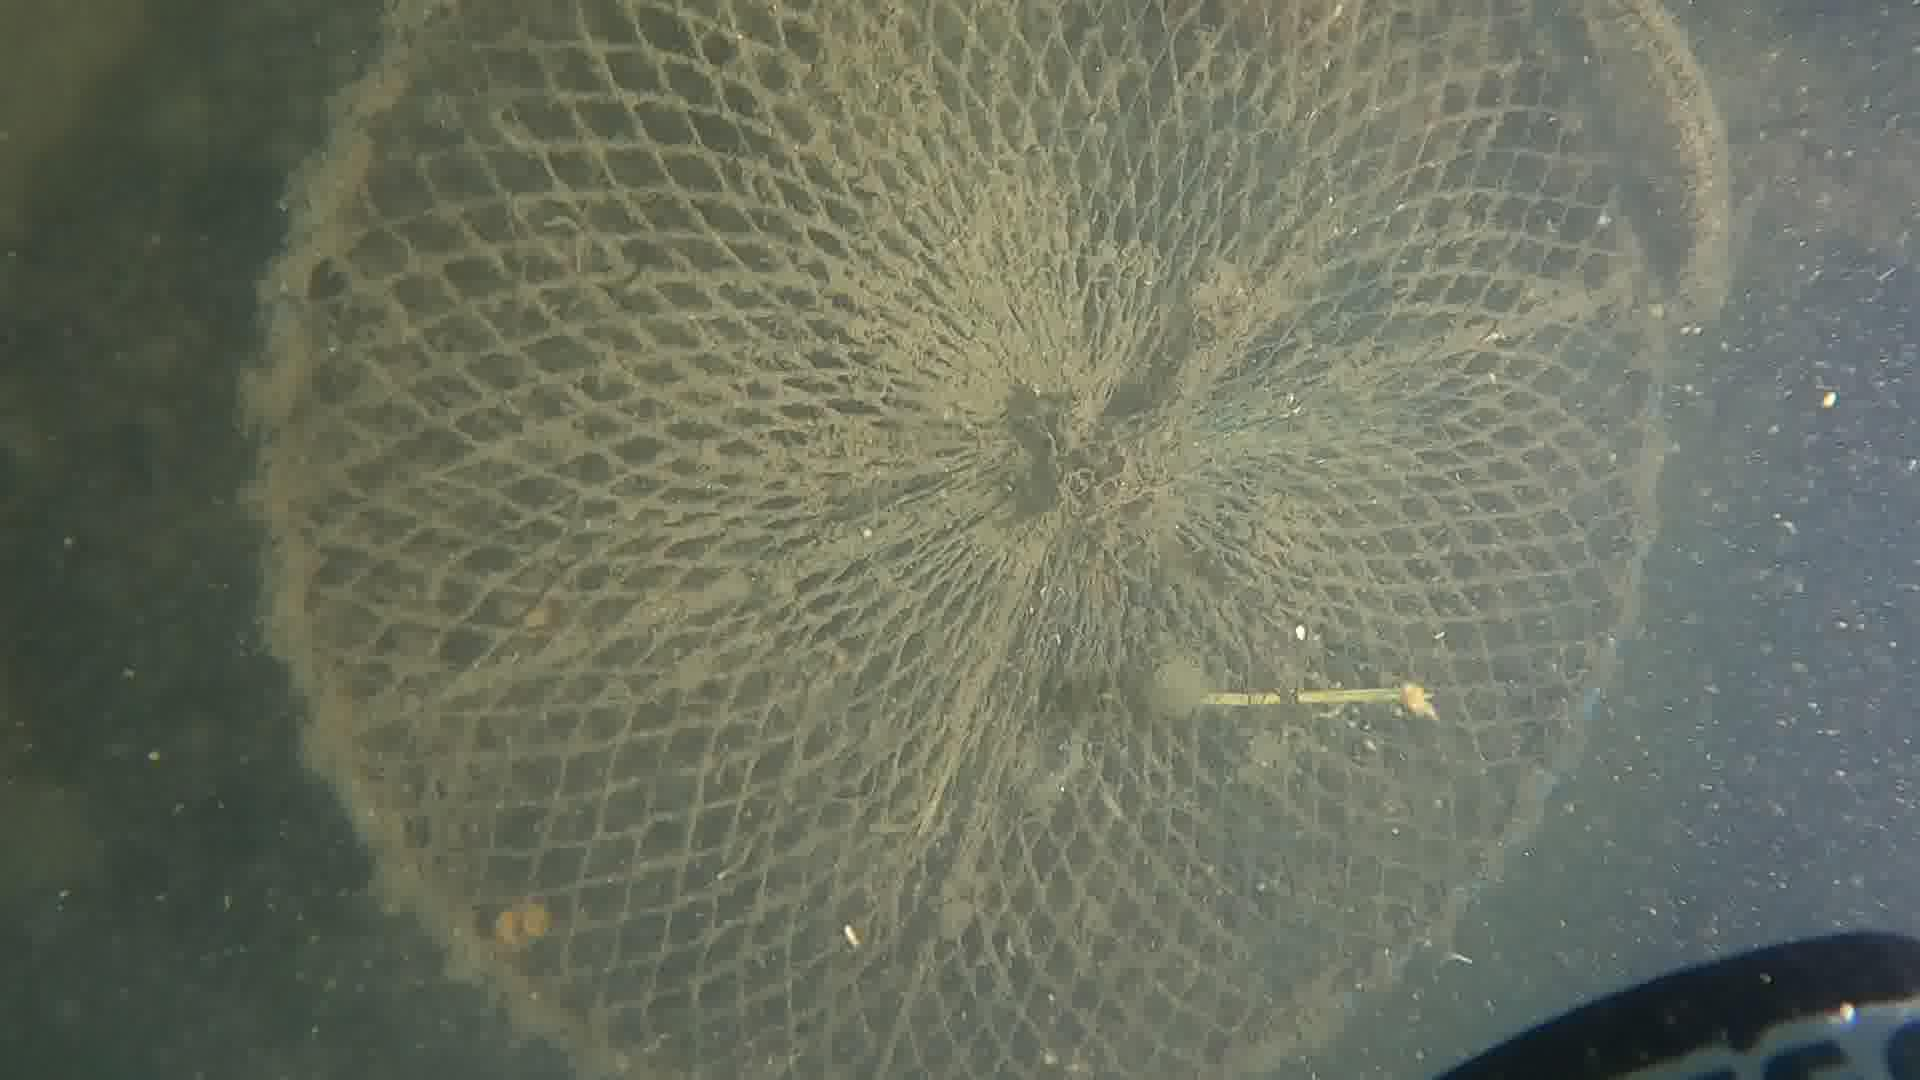circular fish trap: (236, 0, 1672, 1080)
rope: (1601, 3, 1731, 334)
